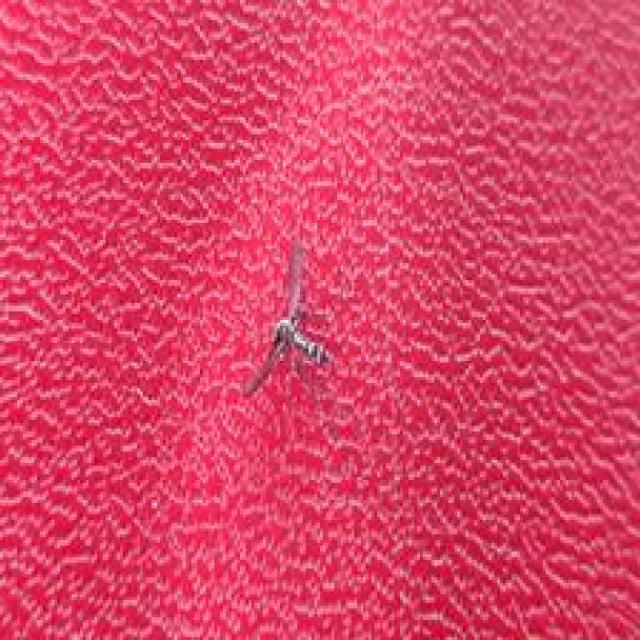Aedes albopictus: (240, 235, 334, 398)
